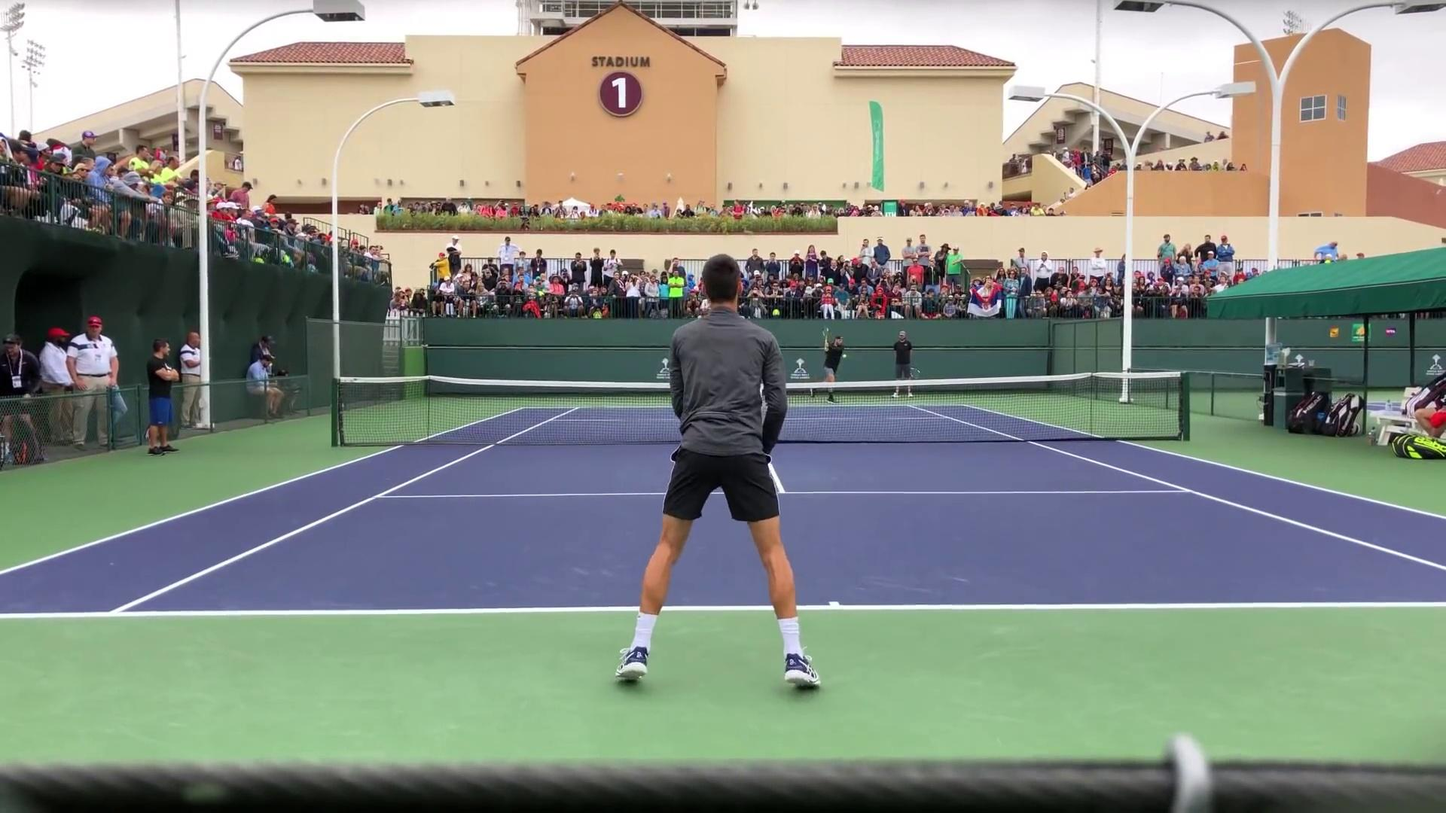ball: (841, 354, 848, 358)
